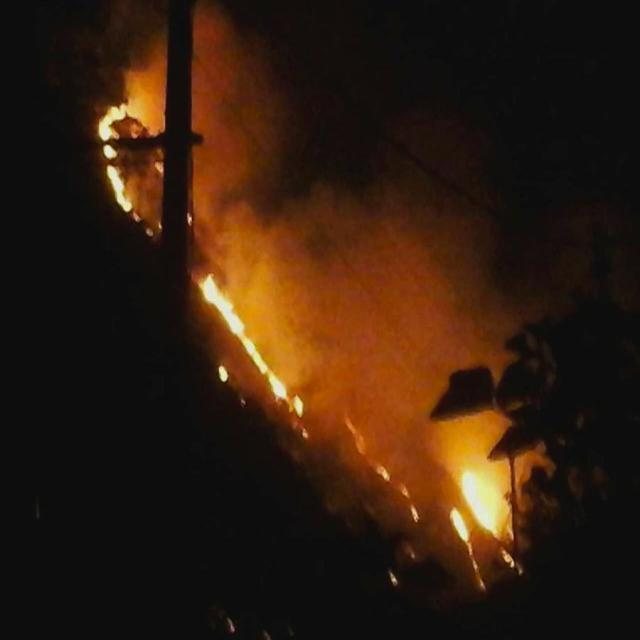Fire: (204, 260, 319, 446), (100, 33, 168, 233), (338, 404, 436, 532), (457, 442, 526, 548)
Smoke: (329, 187, 489, 392), (188, 19, 304, 227)
